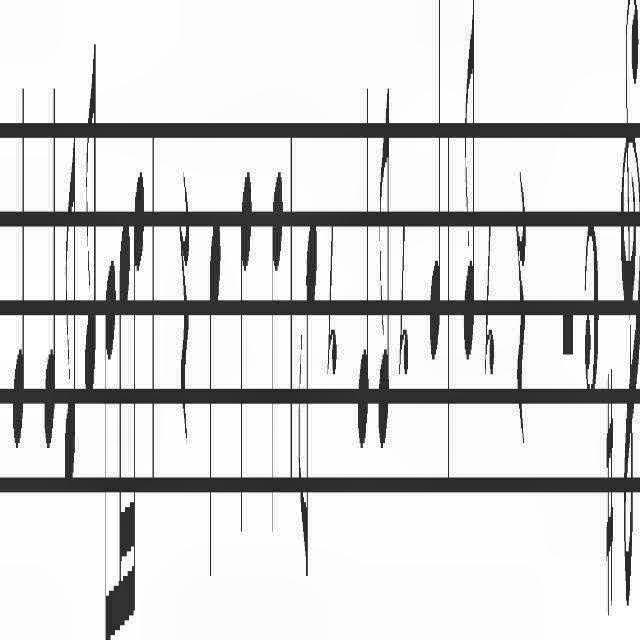Bass-clef: (620, 1, 640, 612)
Diez: (604, 352, 616, 608)
Eighth-note: (297, 192, 319, 598), (83, 19, 97, 424), (64, 101, 78, 506), (104, 256, 118, 640), (462, 0, 475, 368), (378, 77, 390, 467)
Eighth-rest: (484, 196, 496, 386), (399, 206, 409, 386), (327, 206, 337, 386)
Quarter-note: (208, 203, 222, 601), (270, 157, 284, 551), (240, 161, 254, 555), (428, 0, 442, 384), (12, 73, 26, 457), (44, 66, 56, 460), (358, 70, 370, 457)
Quarter-rest: (178, 158, 190, 450), (516, 164, 528, 432)
Sixteenth-note: (132, 172, 146, 640), (118, 207, 130, 640)
